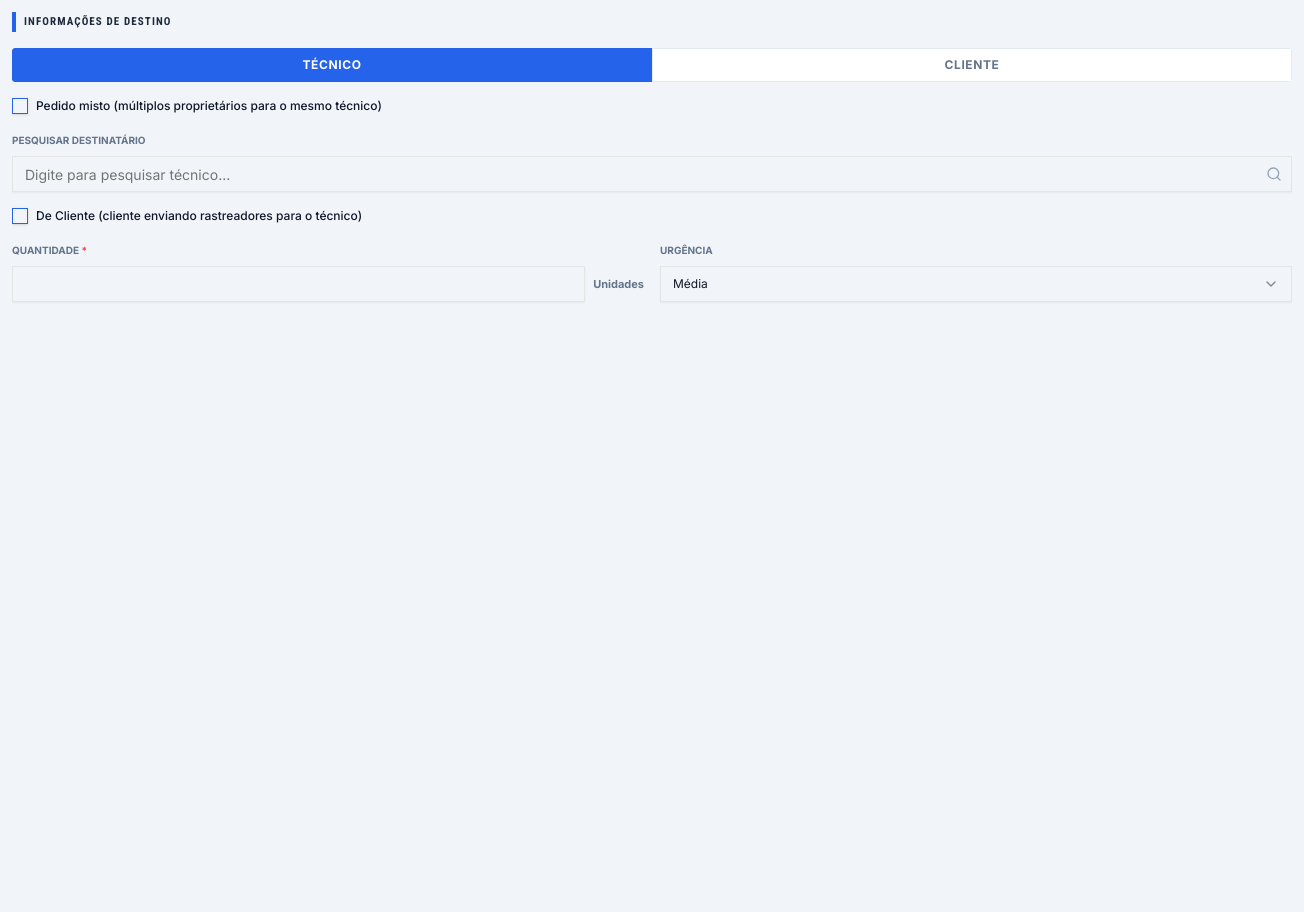
Test: NovoPedidoDestinoSection › pedido misto: desmarcar volta para TÉCNICO e colapsa itensMisto para um único INFINITY
Click the 1st checkbox named "Pedido misto" at (20, 106), box [12, 98, 28, 114]
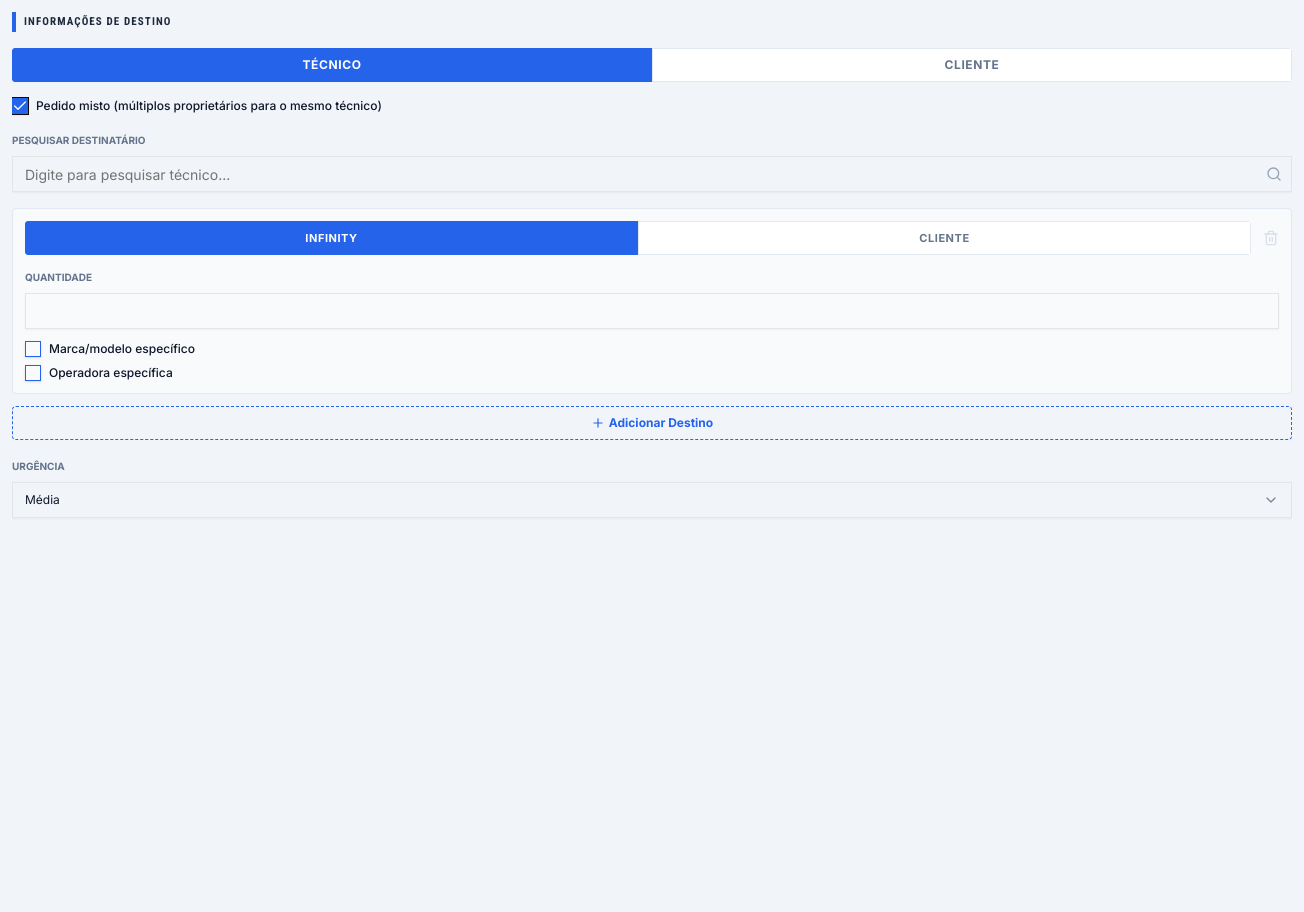
Click the button "Adicionar Destino" at (652, 423), box [12, 406, 1292, 440]
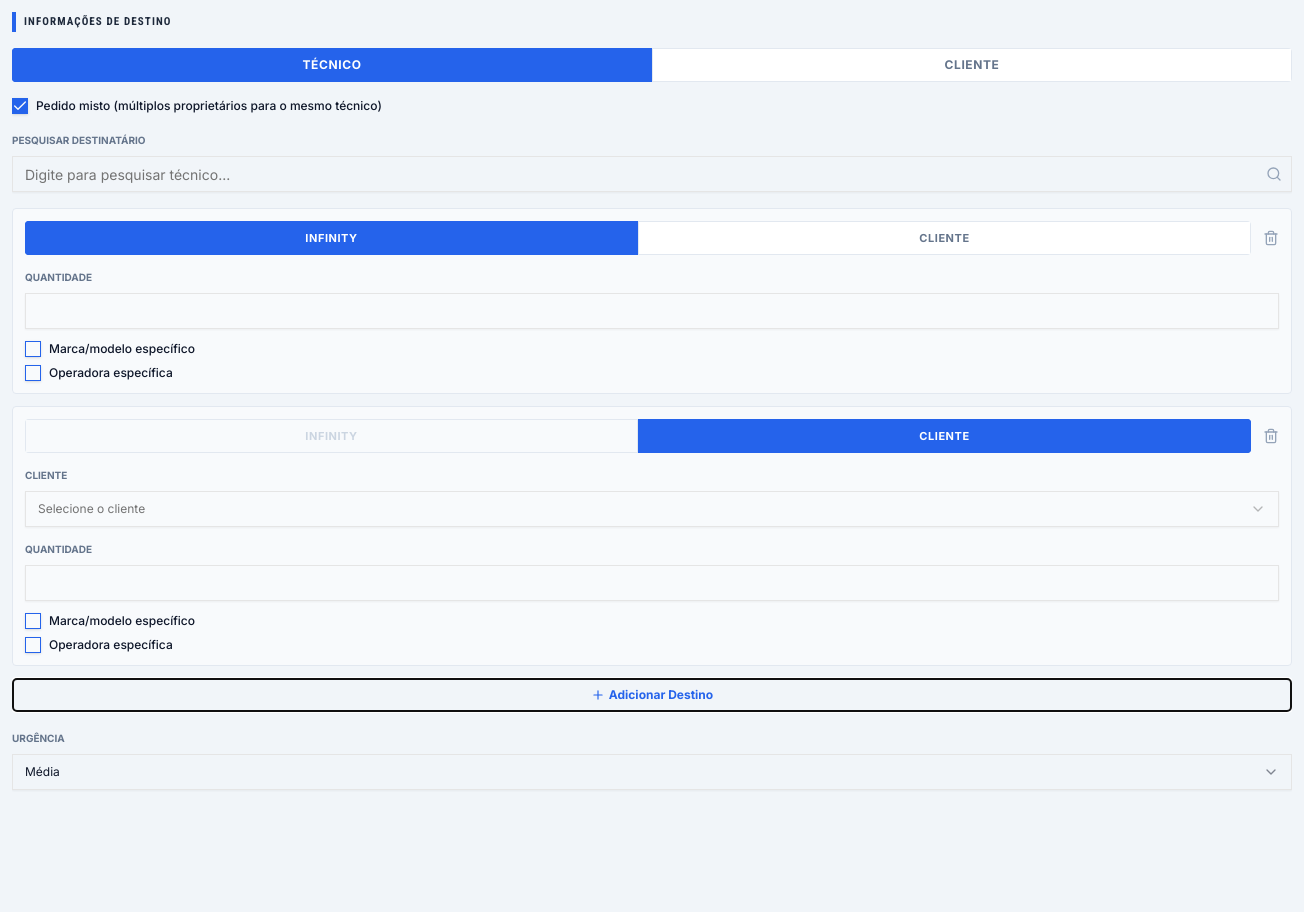
Click the 1st checkbox named "Pedido misto" at (20, 106), box [12, 98, 28, 114]
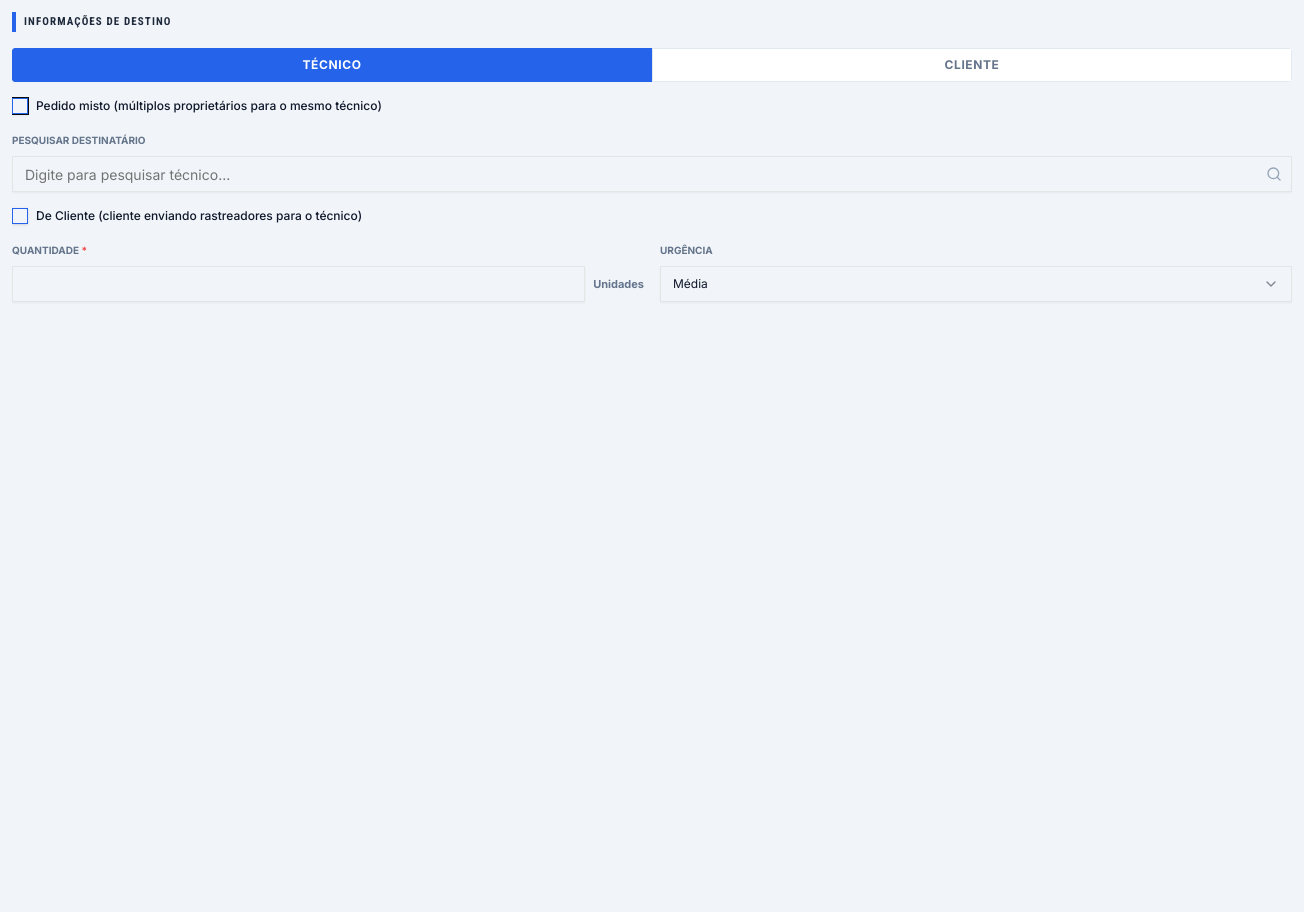
Result: the button "Adicionar Destino" is gone
